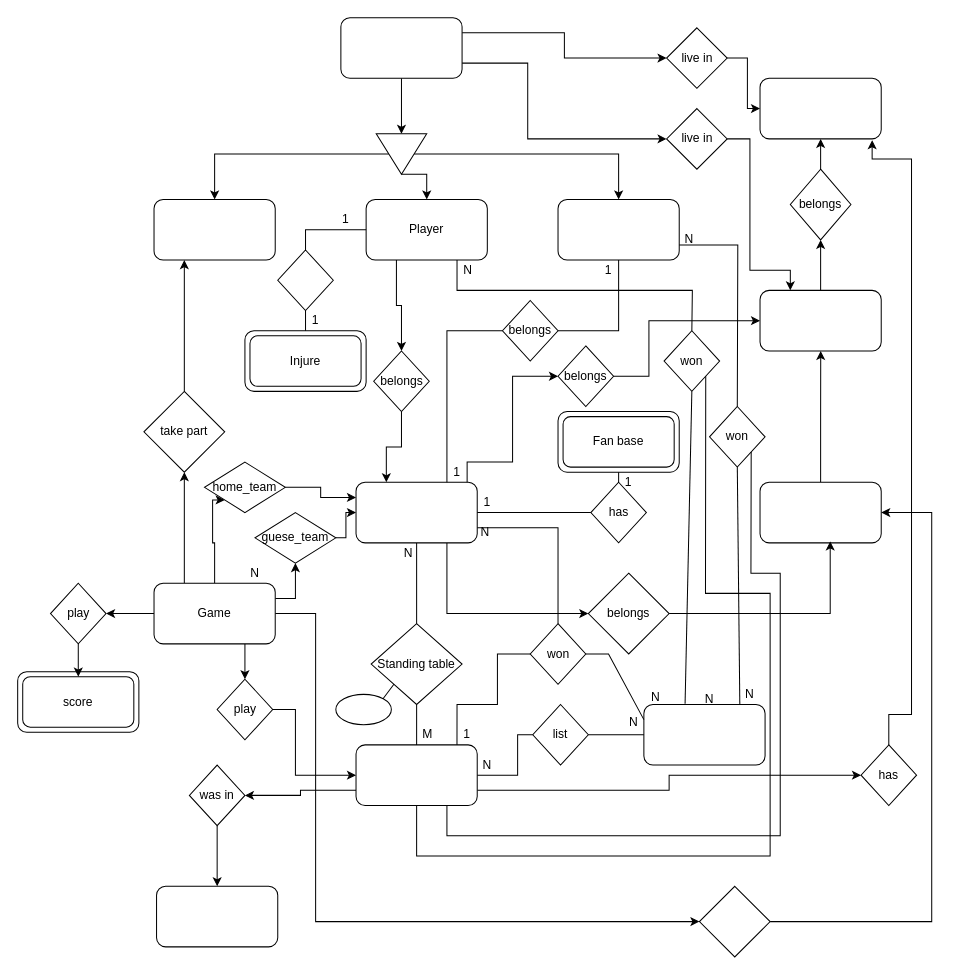
This 957x975 diagram has some shape labels left out. Each missing label, with the centre of its shape:
City: point 820,320
Coach: point 618,229
competition: point 416,774
Country: point 820,108
Human: point 401,47
is: point 305,280
points: point 363,709
Referee: point 214,229
Season: point 217,916
Stadium: point 820,512
takes place: point 734,921
Team: point 416,512
Trophy: point 704,734
